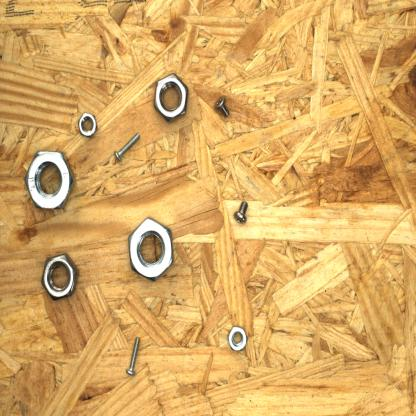screw: (113, 131, 142, 164), (124, 335, 141, 379), (232, 198, 250, 226), (213, 93, 230, 118)
